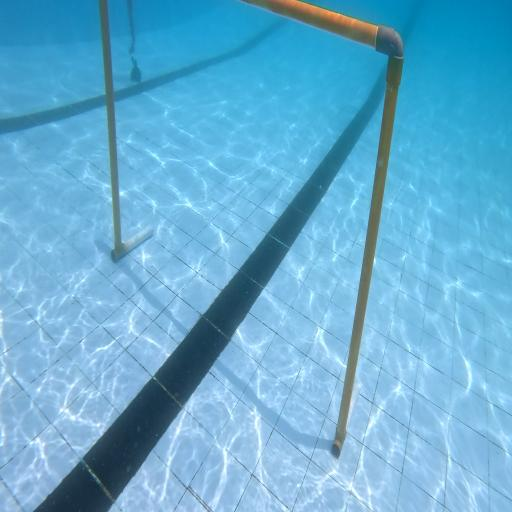gate: (98, 1, 404, 459)
